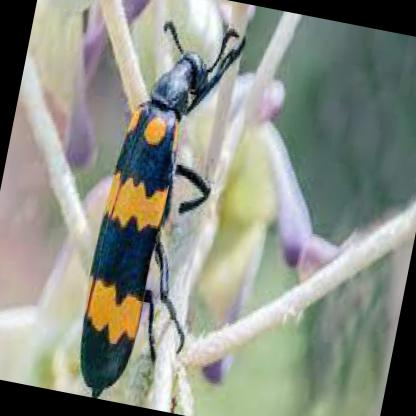blister beetle: (78, 28, 242, 394)
